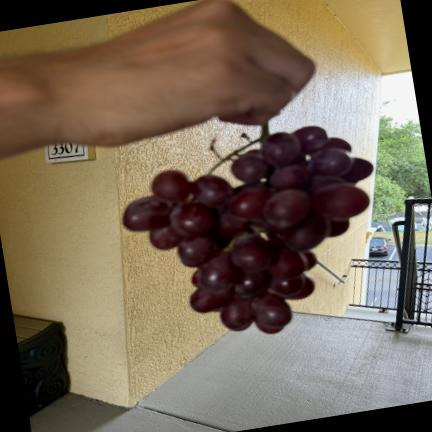grape_cluster: (124, 125, 373, 333)
